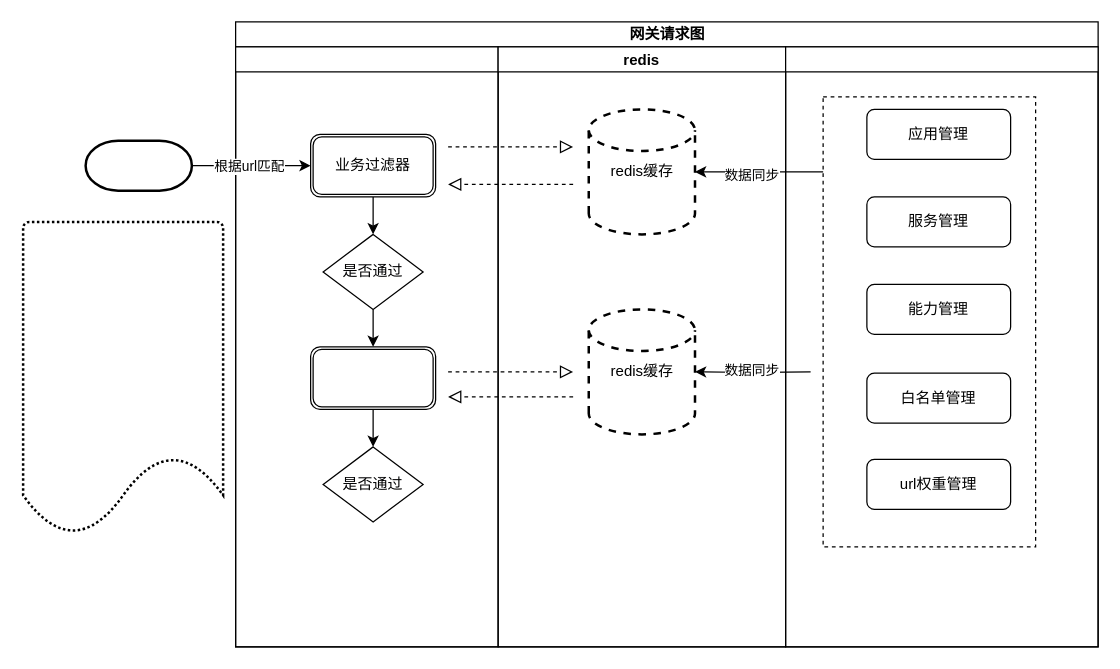
This 1120x669 diagram has some shape labels left out. Here are the shapes that lost their labels. From the top down, the box of each, then its label:
(84, 139, 192, 191): 请求request
(234, 46, 498, 647): 网关
(784, 46, 1098, 647): 网关后台管理
(21, 220, 224, 535): ApiGatewayFilter: 签名、能力校验 ApiWhiteGatewayFilter： 白名单校验 WebGatewayFilter: 站点校验
(309, 346, 436, 409): RequestFilter
